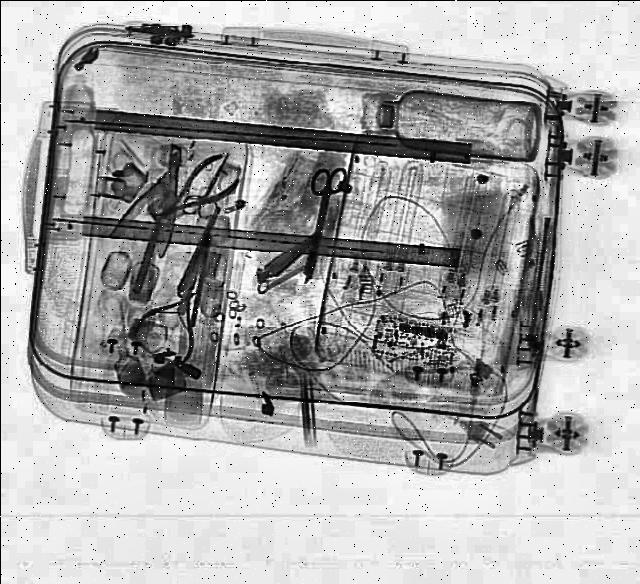Pliers: (140, 148, 250, 234)
Scissors: (290, 166, 350, 280)
